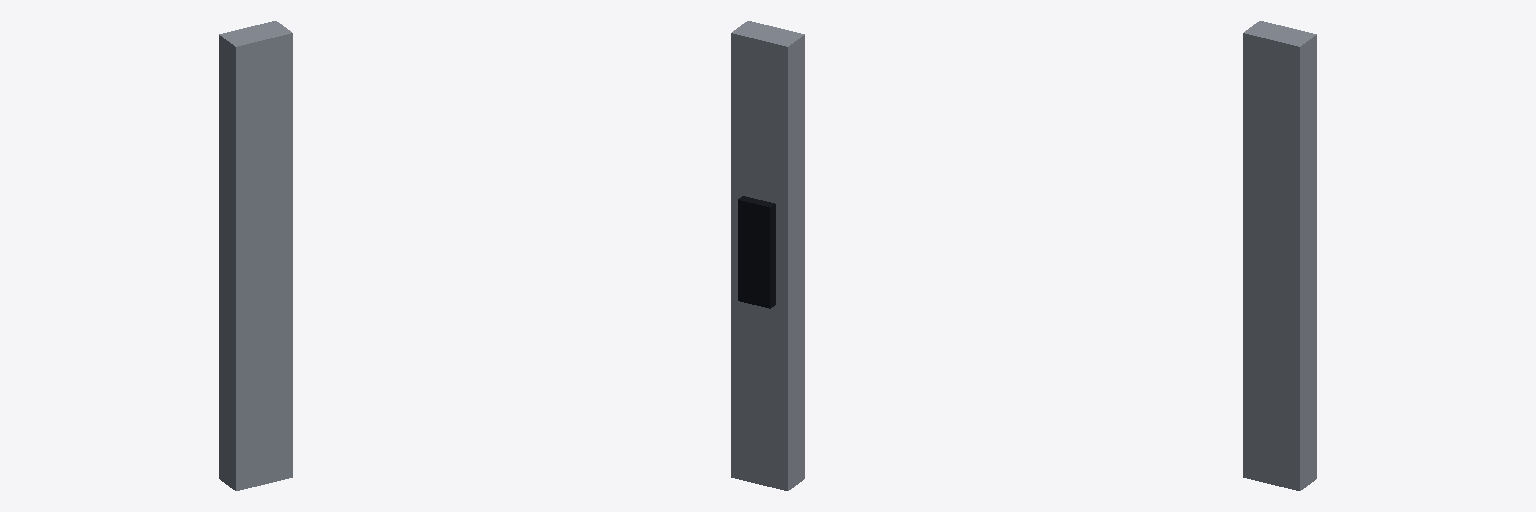
The robot description file, URDF, robot "artmanip_knife_002":
<?xml version='1.0' encoding='utf-8'?>
<robot name="artmanip_knife_002"><link name="link_0"><inertial><mass value="0.029" /><inertia ixx="4.861683797520042e-05" iyy="4.925933565833645e-05" izz="1.1108179174517296e-06" ixy="0" ixz="0" iyz="0" /></inertial><visual><geometry><box size="0.01904612695131855 0.009843466949330358 0.14149352785204564" /></geometry><material name="link_0_color"><color rgba=".58 .60 .64 1" /></material></visual><collision><geometry><box size="0.01904612695131855 0.009843466949330358 0.14149352785204564" /></geometry></collision></link><link name="link_1"><inertial><mass value="0.006" /><inertia ixx="5.240885137157846e-07" iyy="5.780069497880896e-07" izz="6.334902459338663e-08" ixy="0" ixz="0" iyz="0" /></inertial><visual><geometry><box size="0.010829010142468782 0.0030709263294780515 0.032229589493359787" /></geometry><material name="link_1_color"><color rgba=".12 .13 .15 1" /></material></visual><collision><geometry><box size="0.010829010142468782 0.0030709263294780515 0.032229589493359787" /></geometry></collision></link><joint name="slider" type="prismatic"><parent link="link_0" /><child link="link_1" /><origin xyz="0.0 0.006457196639404205 0.030208020292610605" /><axis xyz="0 0 1" /><limit lower="-0.05143204947041745" upper="-0.0014320494704174458" effort="100" velocity="1" /><dynamics damping="1000" friction="0.001" /></joint></robot>

--- What the picture shows (computed from the rendered views, not written in the file) ---
Views: 3 orthographic renders of the robot side by side, from view 1: azimuth 30°, elevation 25°; view 2: azimuth 150°, elevation 25°; view 3: azimuth 330°, elevation 25°.
Model artmanip_knife_002 with 2 links and 1 joints (1 prismatic), rooted at link_0, posed all joints at 0 but 1 set to mid-range because 0 is outside their limits (slider = -0.0264).
Visible links, largest first — view 1: link_0; view 2: link_0, link_1; view 3: link_0.
Link boxes in pixels (x1,y1,x2,y2): link_0: [219, 21, 292, 490]; link_0: [731, 21, 804, 490]; link_1: [738, 196, 775, 308]; link_0: [1243, 21, 1316, 490].
Size in the robot's own frame: 0.019 by 0.0129 by 0.1415 metres.
Geometry: primitives only (box / cylinder / sphere), no mesh files.
